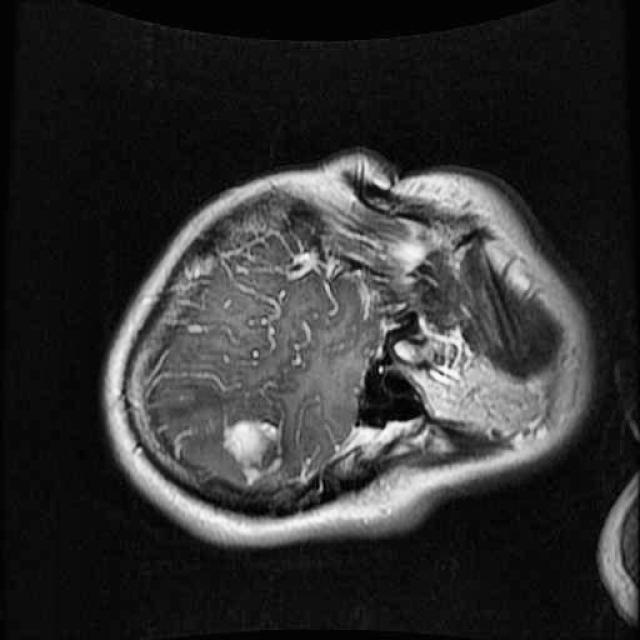Non-Tumor: (205, 400, 298, 506)
